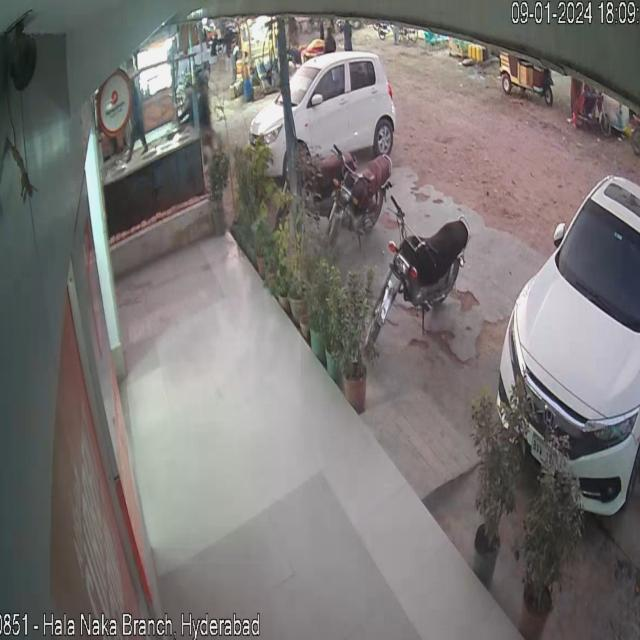Car: (494, 127, 640, 529), (226, 39, 400, 164)
Motorcycle: (364, 184, 480, 355), (330, 143, 399, 239)
